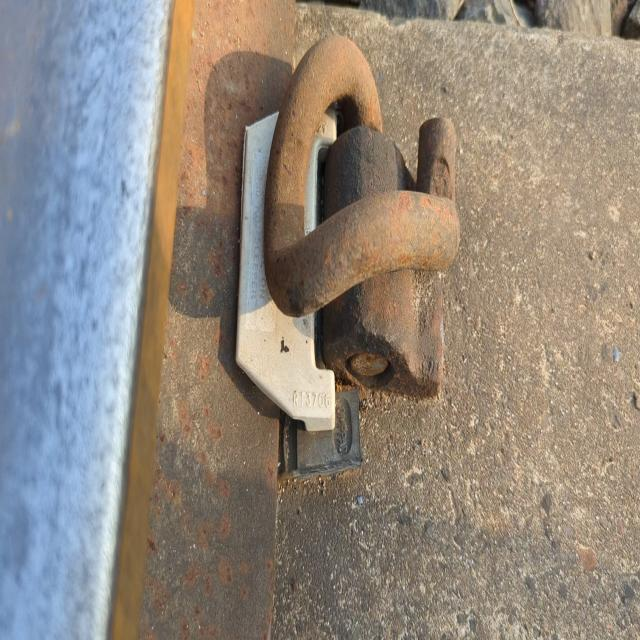underrailed: (251, 24, 541, 442)
